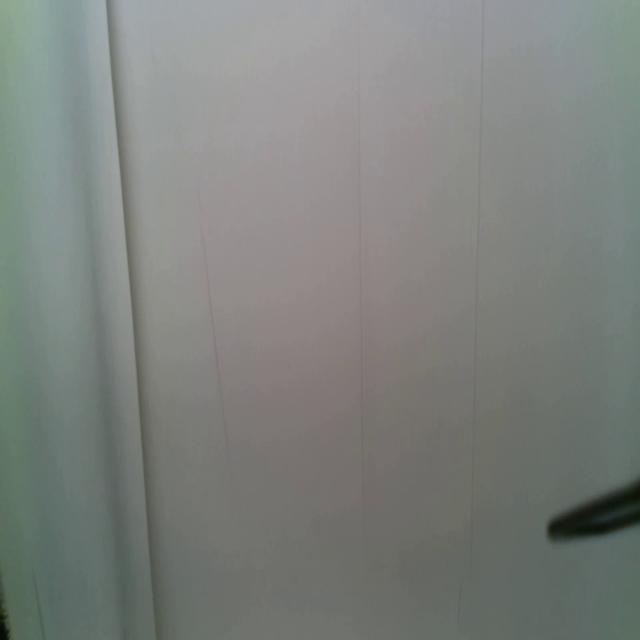crease: (105, 0, 160, 640), (469, 0, 487, 552), (199, 215, 232, 471), (356, 33, 368, 500), (32, 564, 46, 640)
